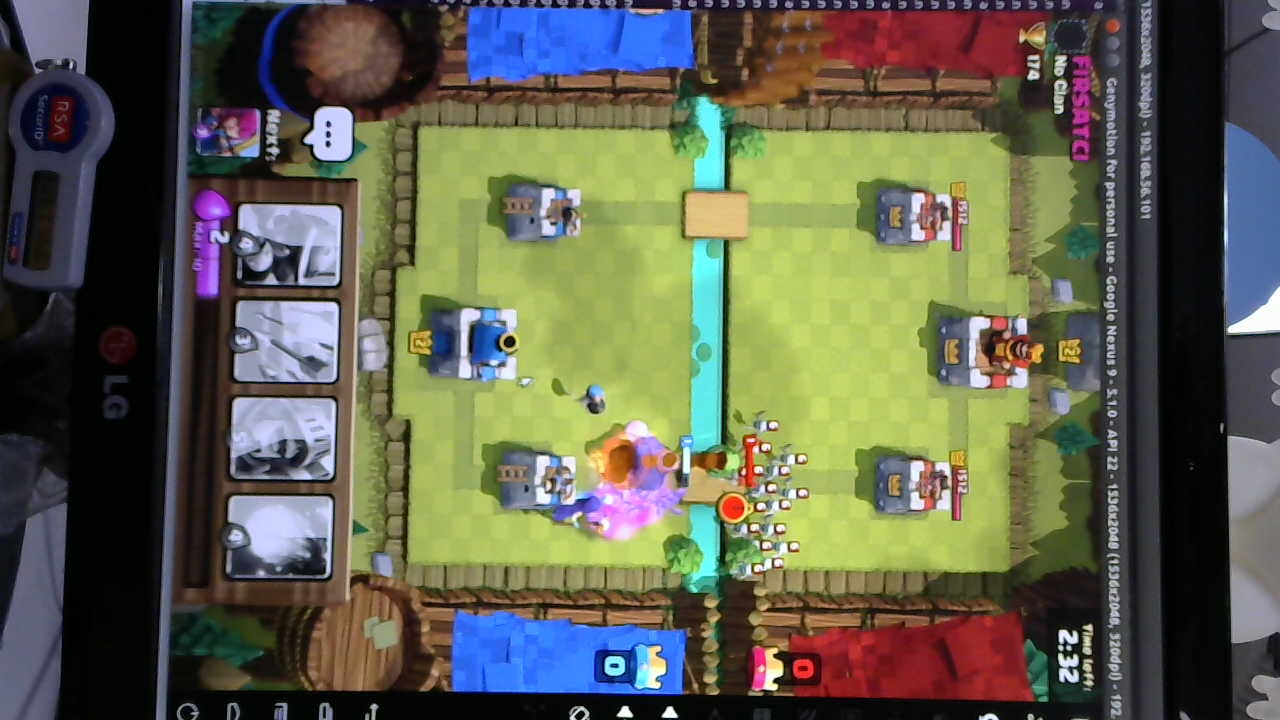skeletonarmyE: (720, 416, 811, 573)
